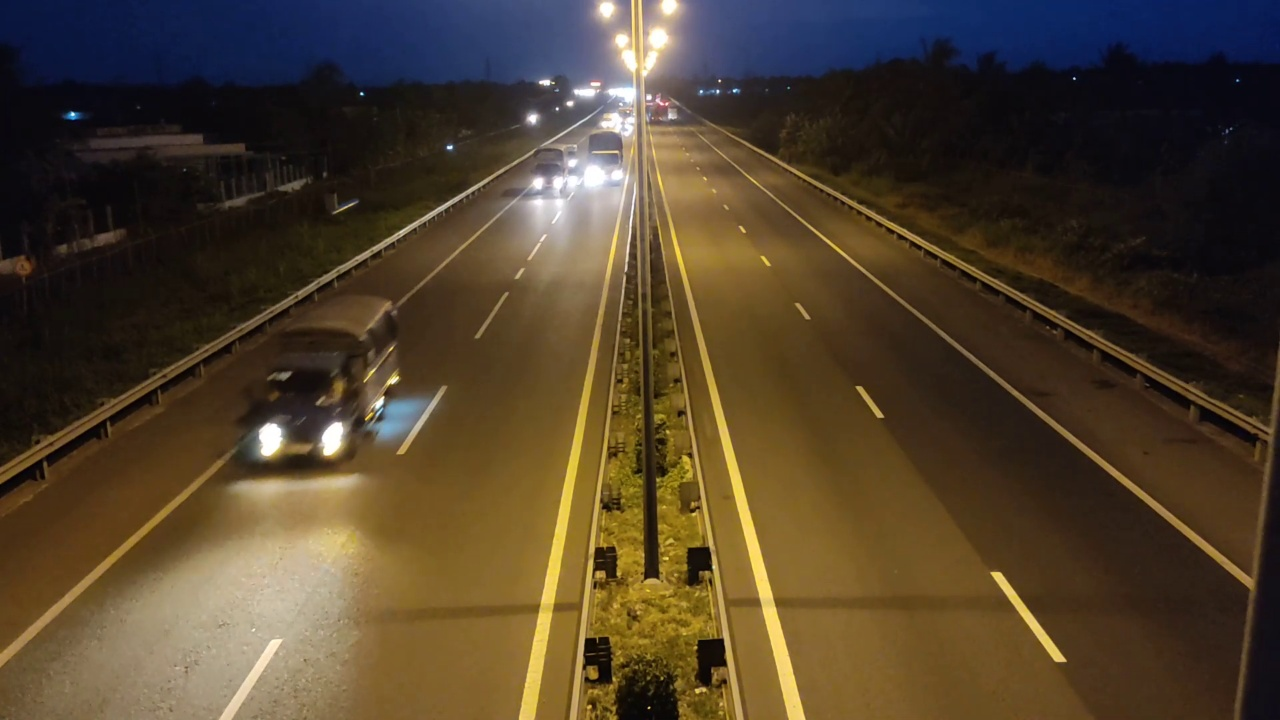truck: (245, 288, 408, 477)
